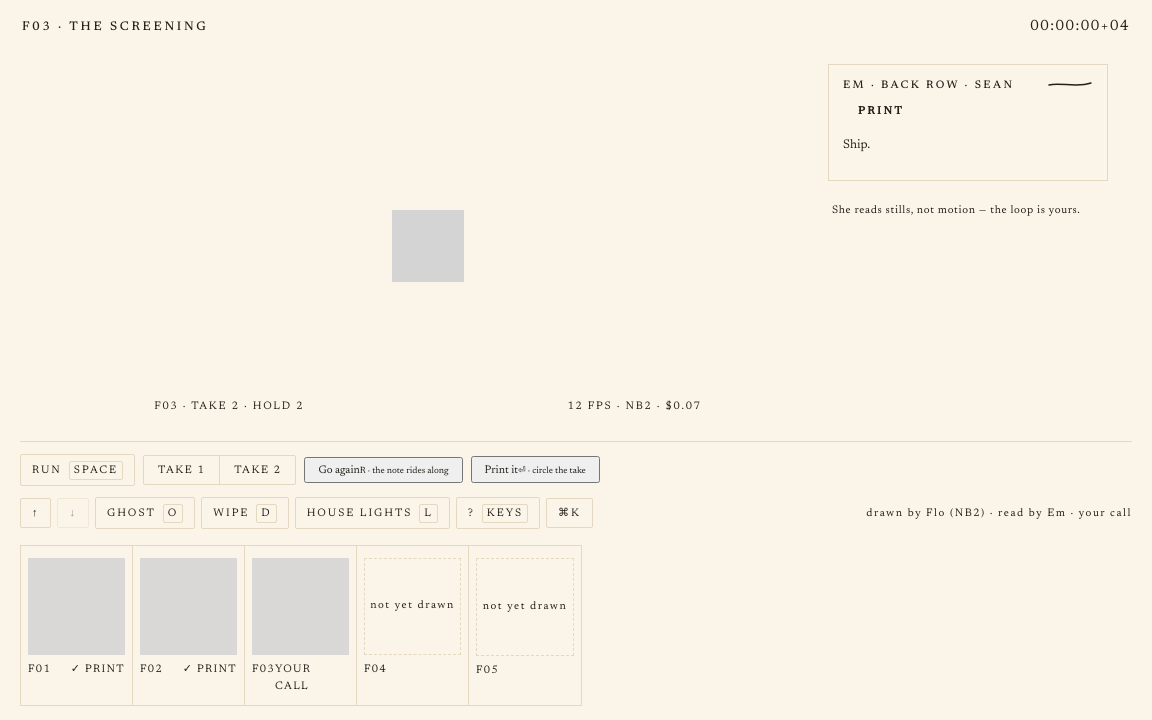
Test: EyeGate — AGAIN opens the note row, prefilled from Em › falls back to Em's flagged reasoning when she proposed no patch
The width and height of the screenshot is (1152, 720).
Check: the element with test id "stage" is shown, box x1=154 y1=210 x2=702 y2=412
Click the button "TAKE 1".
click(182, 470)  # box x1=144 y1=456 x2=220 y2=484
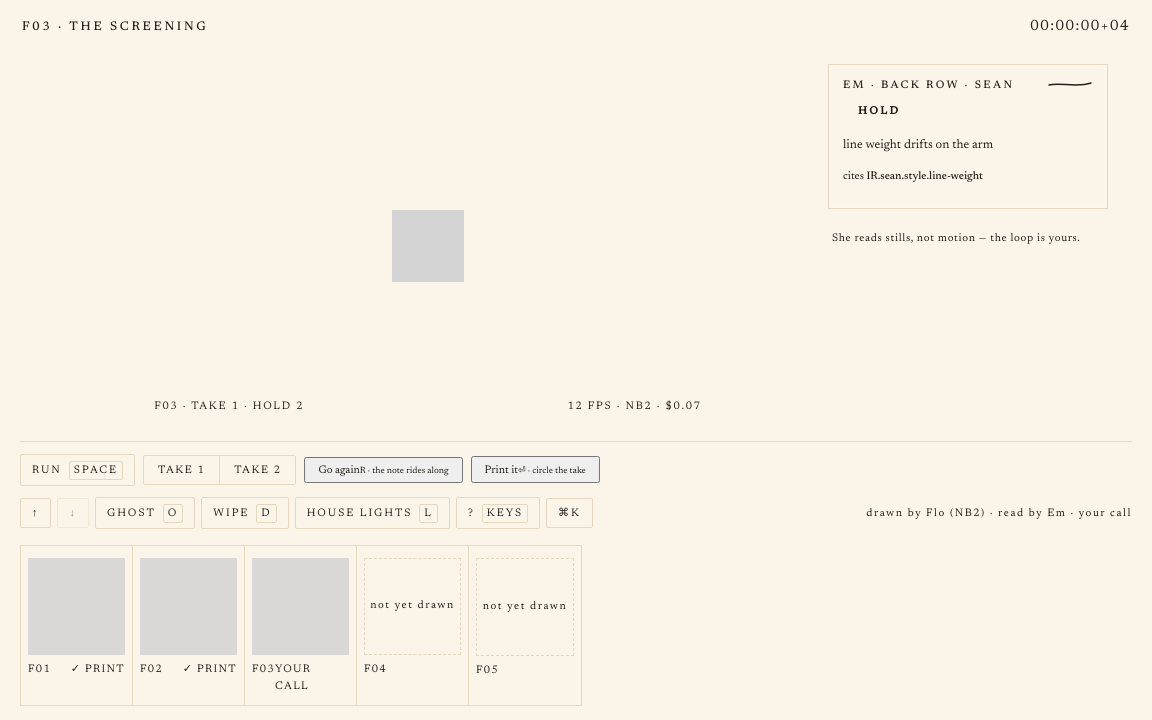
Press r in the element named "the stage"
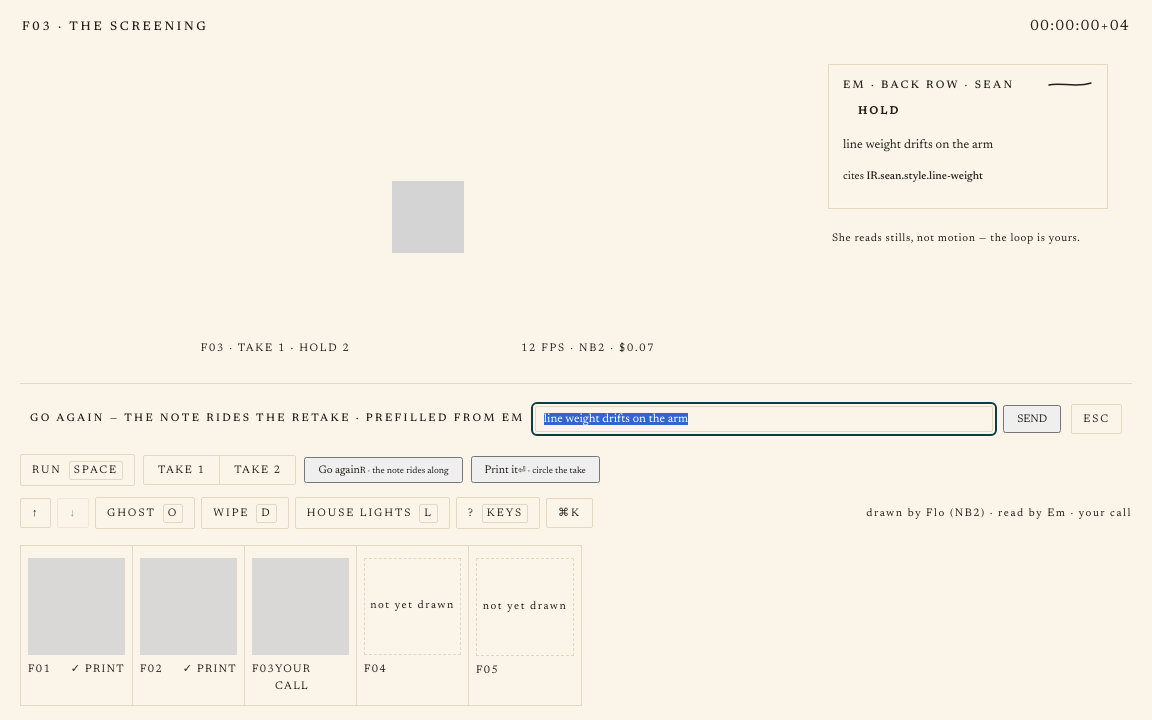
Check: the field named "retake note" holds "line weight drifts on the arm", box x1=535 y1=406 x2=993 y2=432
Check: the text "Go again — the note rides the retake · prefilled from Em" is shown, box x1=30 y1=410 x2=525 y2=427
